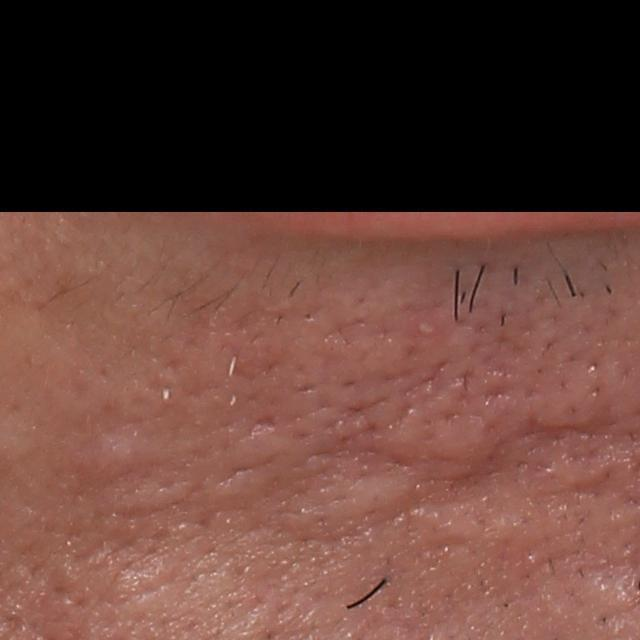atrophic_scar: (245, 408, 277, 440)
hypertrophic_scar: (282, 471, 413, 532), (376, 413, 496, 477), (80, 423, 152, 475), (528, 397, 601, 433)
pustule: (411, 313, 450, 342)
